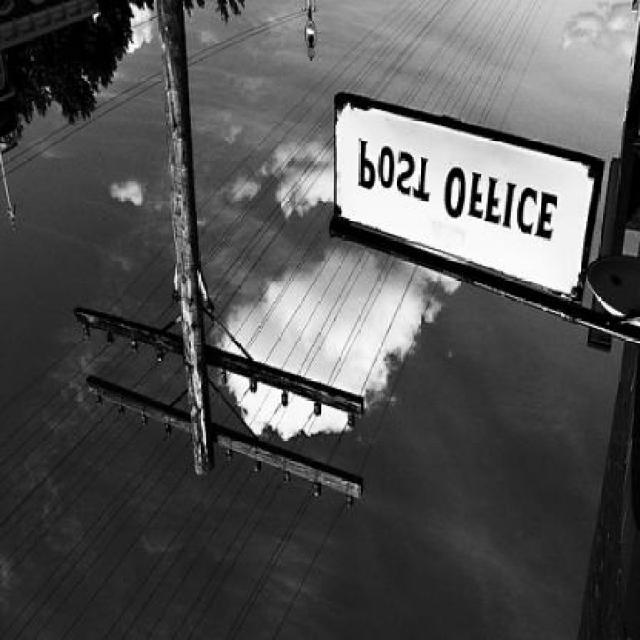pole: (84, 0, 256, 489)
